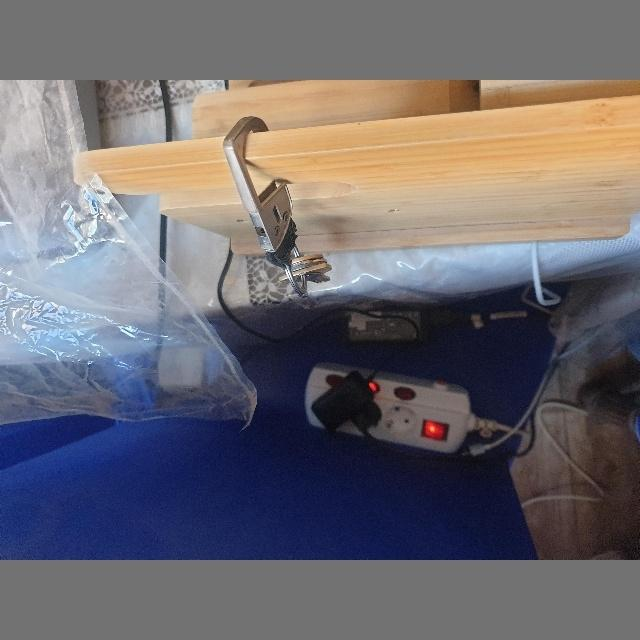Keys: (223, 115, 331, 298)
